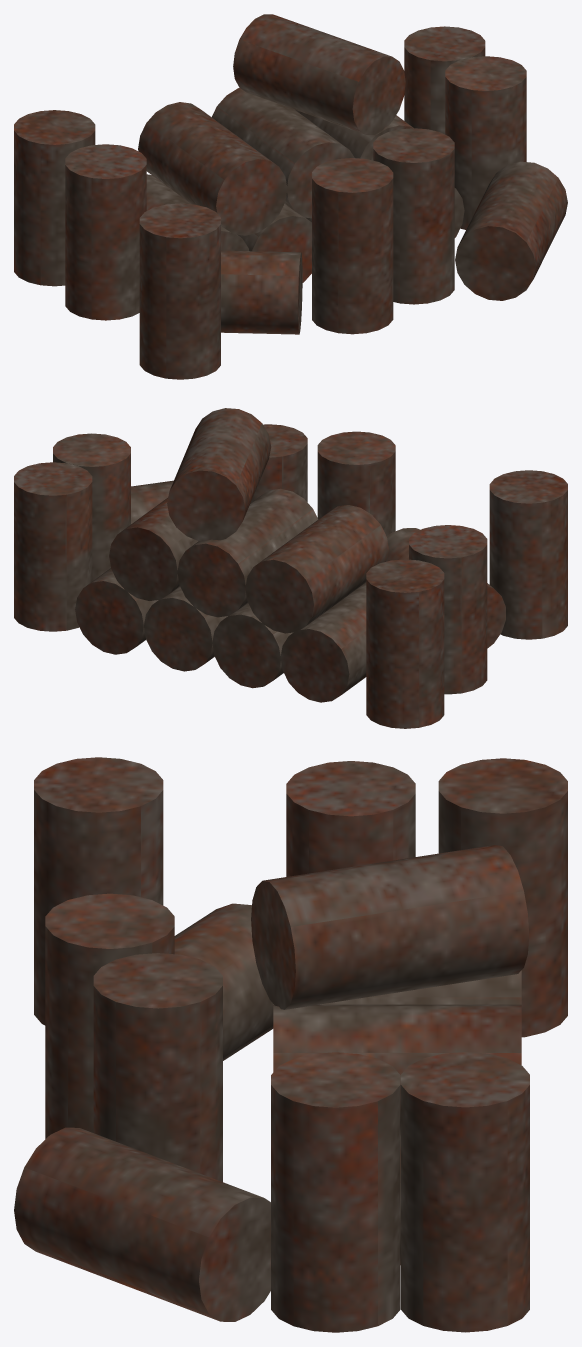
Rendered from Bidones1.obj.
The picture shows the model from 3 angles, top to bottom: view 1: azimuth 30°, elevation 25°; view 2: azimuth 150°, elevation 25°; view 3: azimuth 270°, elevation 25°; orthographic projection. The views are drawn at different scales.
Parts seen in each view (by area): view 1: bidon035, bidon04, bidon00, bidon05, bidon11, bidon01, bidon02, bidon034, bidon06, bidon08, bidon12, bidon03 (+3 smaller); view 2: bidon06, bidon03, bidon035, bidon11, bidon00, bidon05, bidon08, bidon17, bidon04, bidon034, bidon07, bidon14 (+5 smaller); view 3: bidon00, bidon034, bidon03, bidon02, bidon01, bidon06, bidon035, bidon04, bidon07, bidon05, bidon12, bidon08.
Part boxes in pixels (x1=…): bidon035: x1=139, y1=203, x2=220, y2=379; bidon04: x1=312, y1=158, x2=393, y2=334; bidon00: x1=233, y1=14, x2=405, y2=134; bidon05: x1=65, y1=144, x2=146, y2=320; bidon11: x1=138, y1=102, x2=287, y2=235; bidon01: x1=373, y1=128, x2=454, y2=304; bidon02: x1=455, y1=161, x2=567, y2=300; bidon034: x1=445, y1=56, x2=526, y2=229; bidon06: x1=14, y1=110, x2=95, y2=286; bidon08: x1=212, y1=88, x2=354, y2=218; bidon12: x1=221, y1=250, x2=302, y2=334; bidon03: x1=404, y1=26, x2=485, y2=134; bidon06: x1=366, y1=559, x2=444, y2=728; bidon03: x1=14, y1=462, x2=92, y2=631; bidon035: x1=489, y1=470, x2=567, y2=639; bidon11: x1=245, y1=505, x2=388, y2=633; bidon00: x1=167, y1=408, x2=271, y2=541; bidon05: x1=409, y1=525, x2=487, y2=694; bidon08: x1=177, y1=488, x2=318, y2=617; bidon17: x1=280, y1=582, x2=366, y2=702; bidon04: x1=317, y1=431, x2=395, y2=536; bidon034: x1=53, y1=433, x2=130, y2=581; bidon07: x1=109, y1=497, x2=198, y2=600; bidon14: x1=75, y1=568, x2=158, y2=654; bidon00: x1=251, y1=845, x2=529, y2=1009; bidon034: x1=271, y1=1052, x2=400, y2=1332; bidon03: x1=400, y1=1052, x2=529, y2=1332; bidon02: x1=14, y1=1127, x2=270, y2=1321; bidon01: x1=93, y1=953, x2=222, y2=1181; bidon06: x1=438, y1=758, x2=567, y2=1037; bidon035: x1=34, y1=757, x2=163, y2=1025; bidon04: x1=45, y1=893, x2=174, y2=1138; bidon07: x1=273, y1=1004, x2=521, y2=1134; bidon05: x1=286, y1=761, x2=415, y2=876; bidon12: x1=174, y1=903, x2=273, y2=1060; bidon08: x1=273, y1=970, x2=521, y2=1004.
Bounding box in the file's own units: 24.52 × 10.79 × 16.26.
1 material, 1 textured.
